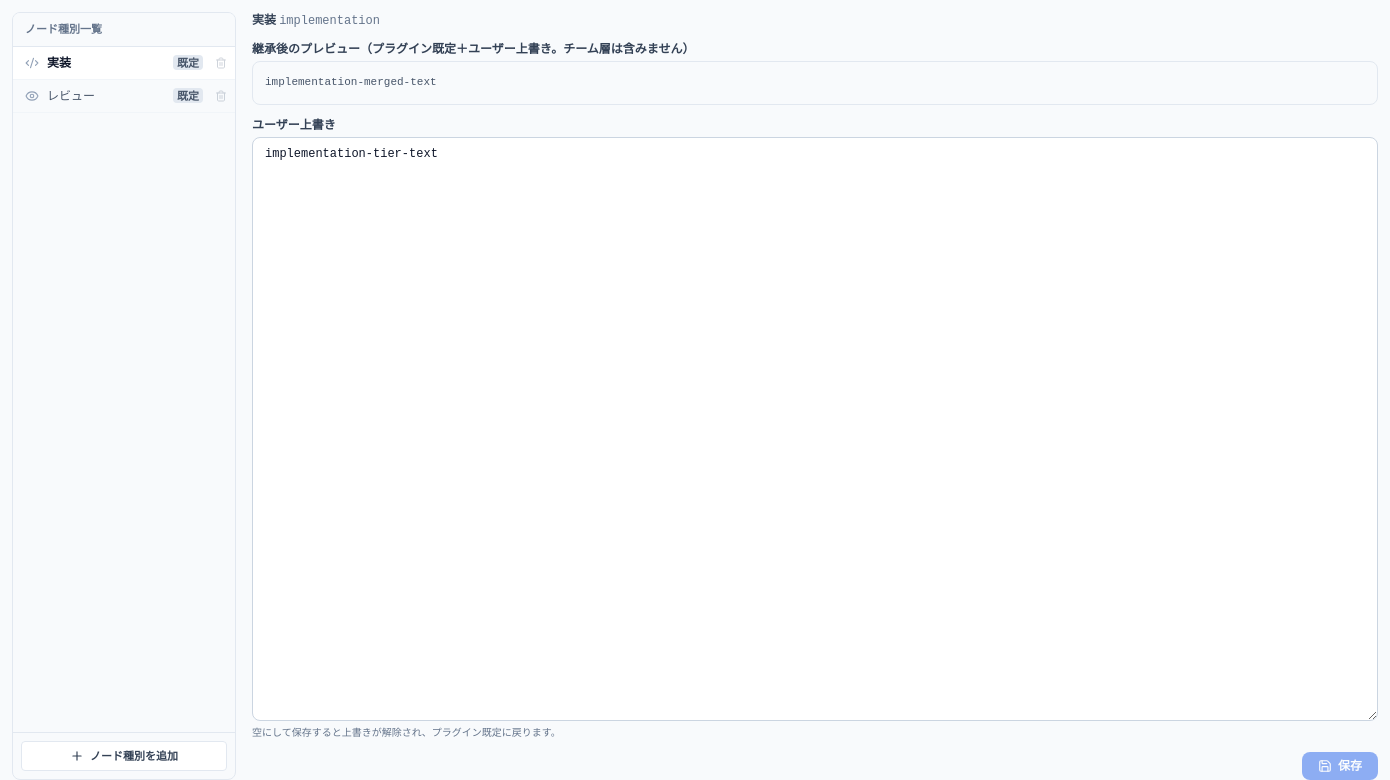
it: NodeTypesEditor › labels the "add node type" input, and handles Escape there with preventDefault to cancel the add
The image size is (1390, 780).
Click the button "ノード種別を追加" at point(124, 756), box x1=21 y1=740 x2=227 y2=771
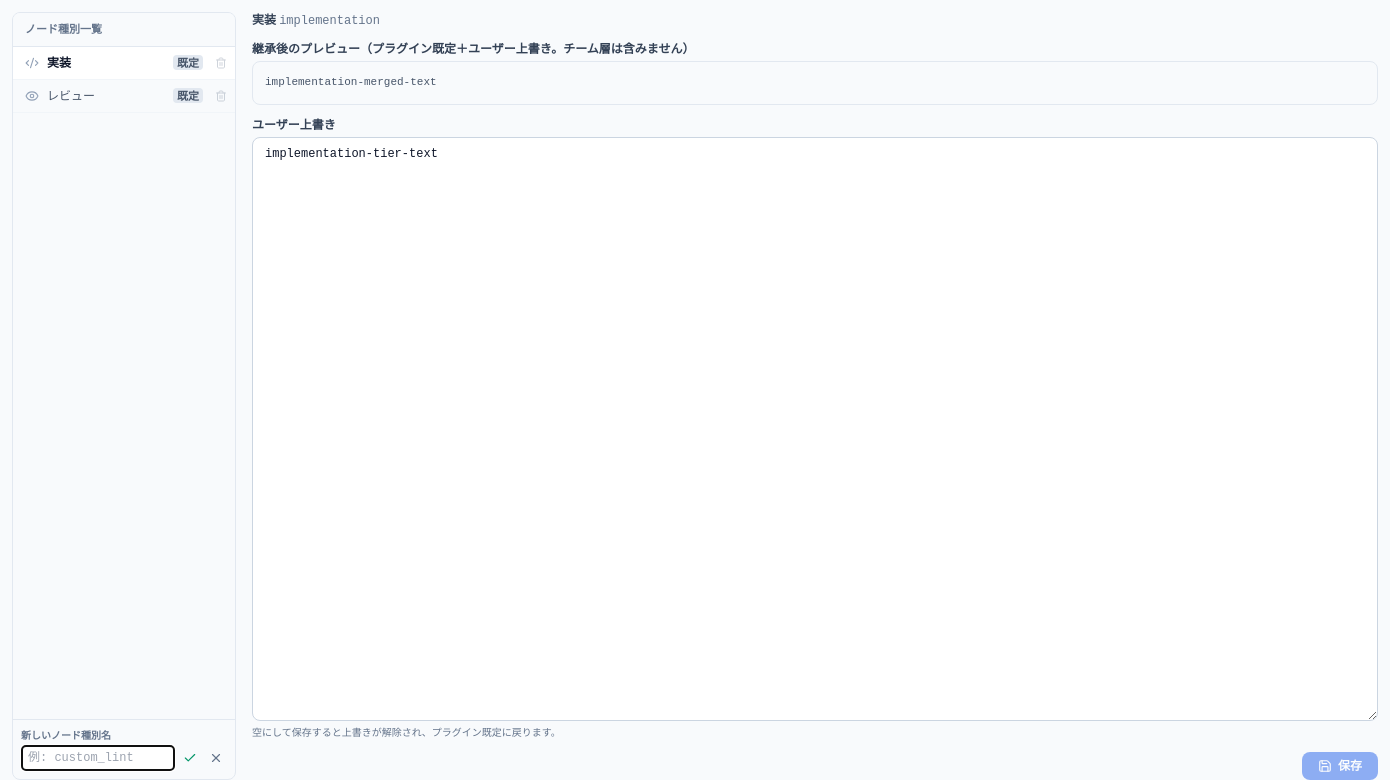
Type "custom_lint" into the field labelled "新しいノード種別名" at point(98, 758), box x1=21 y1=745 x2=175 y2=771
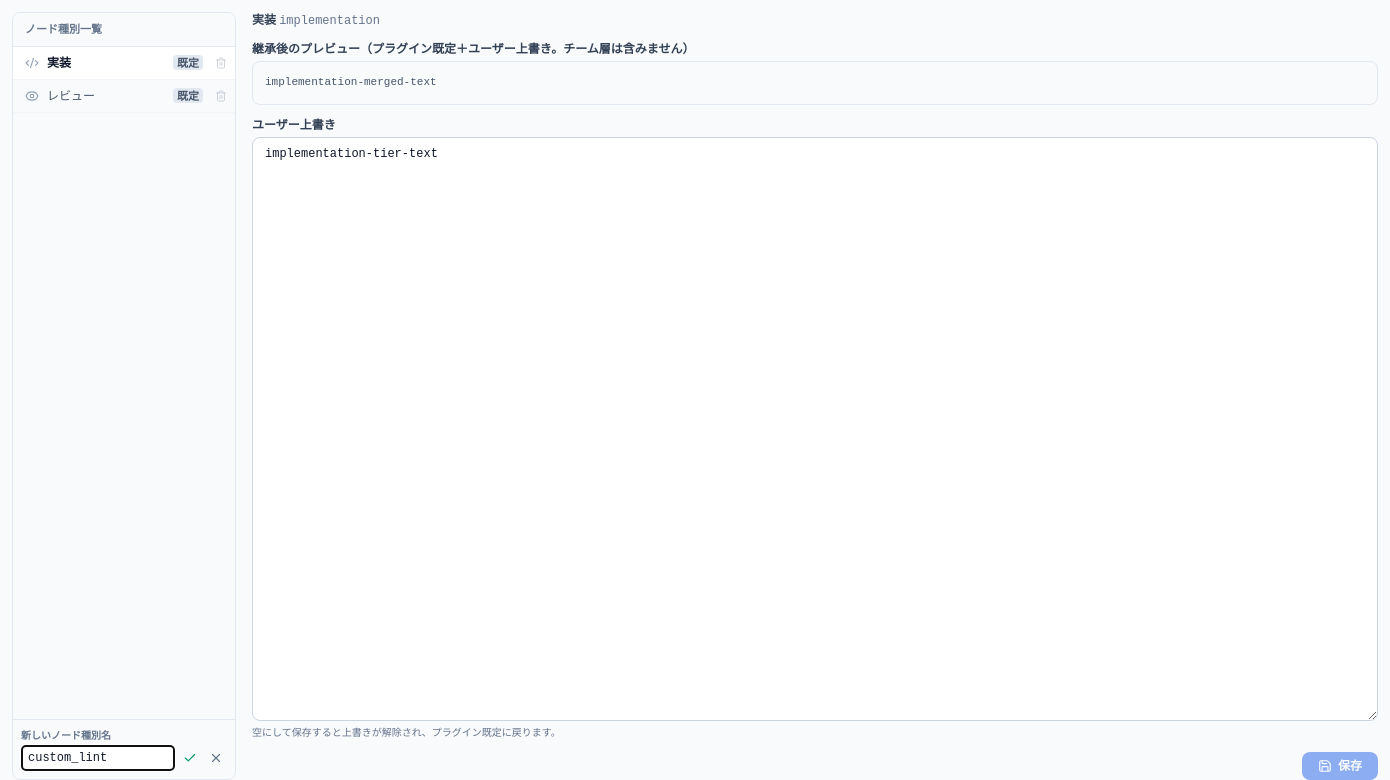
Press Escape in the field labelled "新しいノード種別名", box x1=21 y1=745 x2=175 y2=771
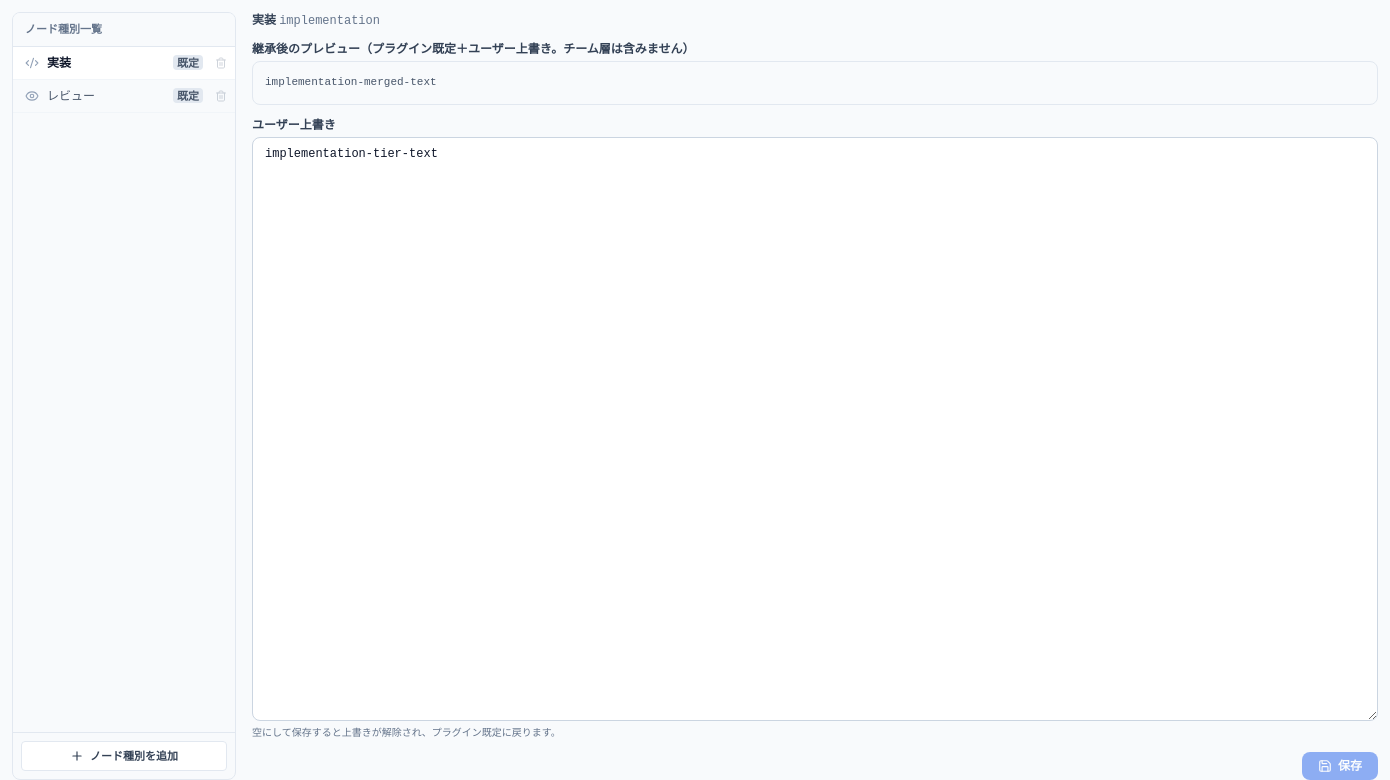
Expected: the button "custom_lint" is not shown
Expected: the label labelled "新しいノード種別名" is gone
